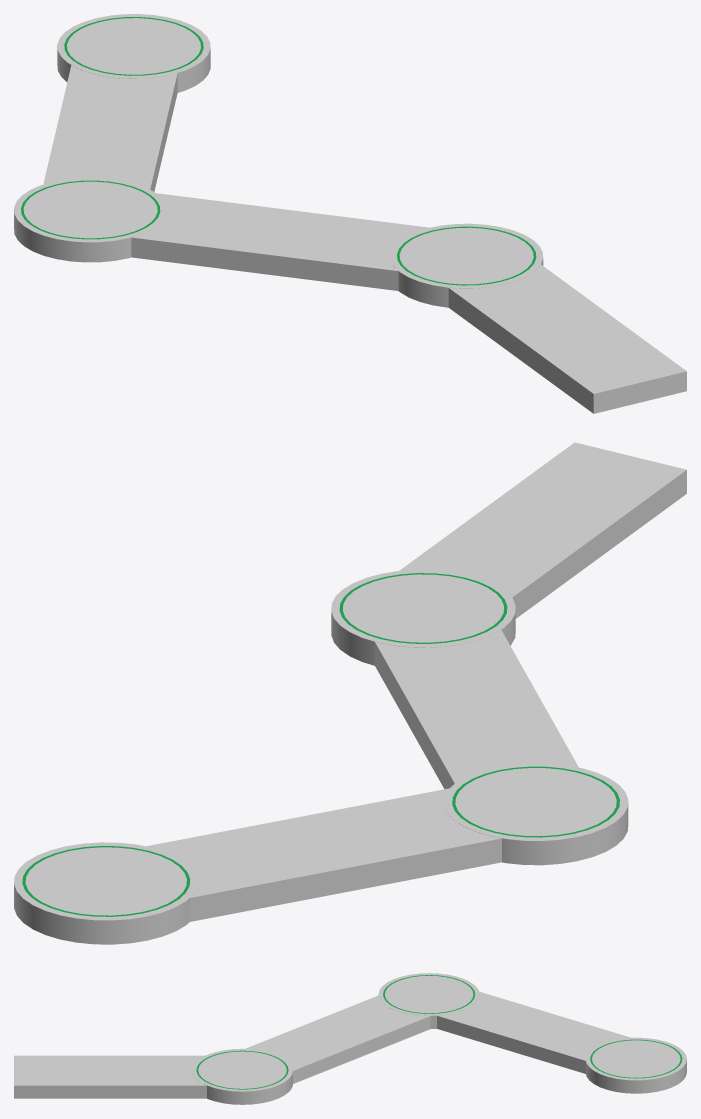
The model's file is Tutorial_Level_Platform.fbx.
The picture shows the model from 3 angles, top to bottom: view 1: azimuth 30°, elevation 25°; view 2: azimuth 150°, elevation 25°; view 3: azimuth 270°, elevation 25°; orthographic projection. The views are drawn at different scales.
Parts seen in each view (by area): view 1: platform_1, platform2, platform3, yuvarlak_platform_2, yuvarlak_platform_1, yuvarlak_platform_3; view 2: platform3, platform_1, platform2, yuvarlak_platform_3, yuvarlak_platform_2, yuvarlak_platform_1; view 3: platform_1, platform3, platform2, yuvarlak_platform_3, yuvarlak_platform_1, yuvarlak_platform_2.
Part boxes in pixels (x1,y1,x2,y2): platform_1: [448, 264, 686, 413]; platform2: [131, 193, 428, 290]; platform3: [43, 65, 177, 191]; yuvarlak_platform_2: [14, 177, 167, 262]; yuvarlak_platform_1: [390, 223, 543, 307]; yuvarlak_platform_3: [57, 14, 210, 92]; platform3: [146, 788, 501, 921]; platform_1: [400, 442, 686, 618]; platform2: [375, 630, 578, 789]; yuvarlak_platform_3: [14, 842, 198, 944]; yuvarlak_platform_2: [443, 763, 628, 865]; yuvarlak_platform_1: [331, 569, 515, 665]; platform_1: [14, 1055, 206, 1098]; platform3: [437, 991, 630, 1073]; platform2: [245, 995, 430, 1083]; yuvarlak_platform_3: [585, 1037, 686, 1093]; yuvarlak_platform_1: [191, 1048, 293, 1104]; yuvarlak_platform_2: [378, 973, 479, 1028].
Bounding box in the file's own units: 1989 × 104 × 4773.
